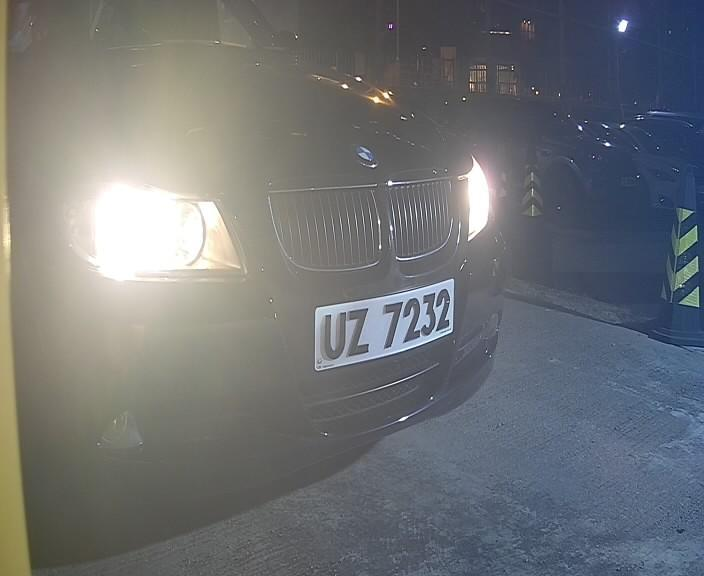privatecar: (38, 6, 516, 474)
